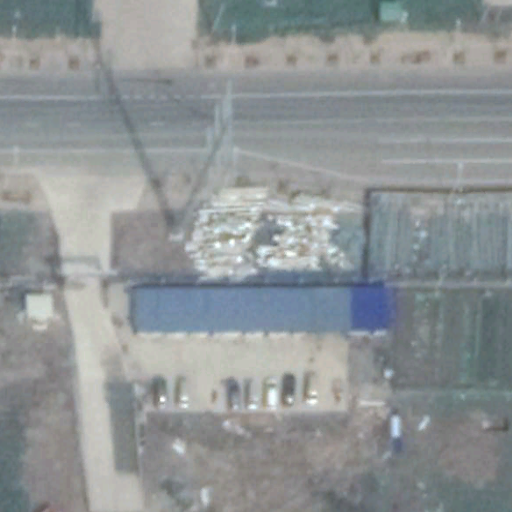msw: (178, 194, 371, 283)
